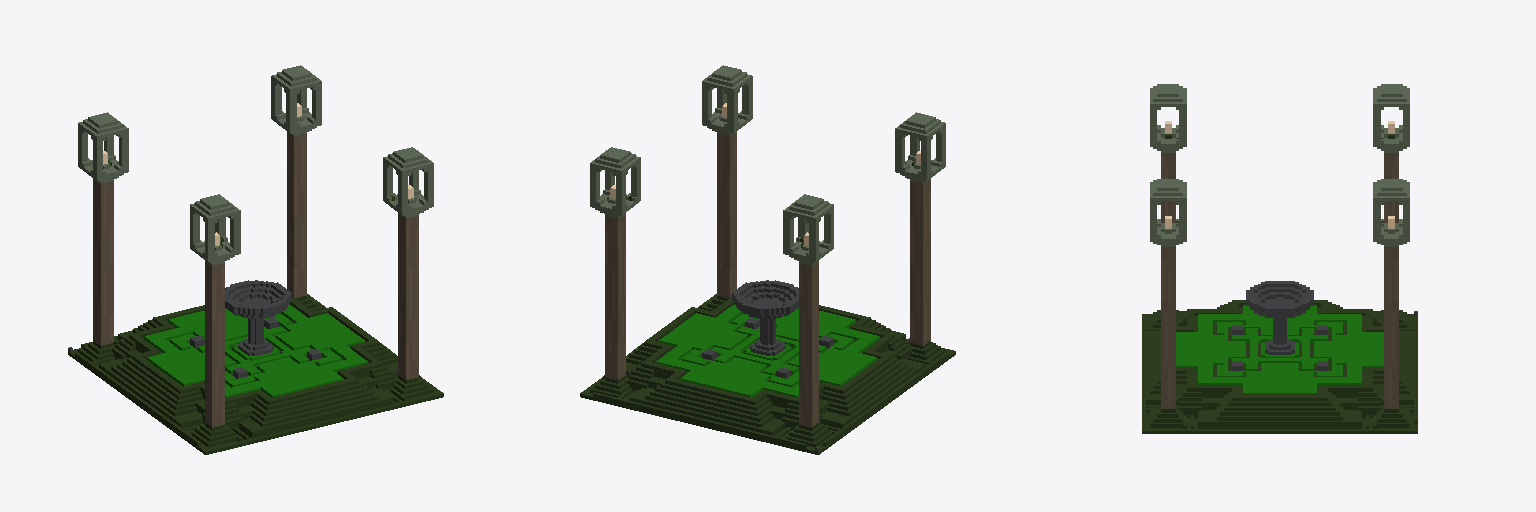
The picture shows the model from 3 angles: view 1: azimuth 30°, elevation 25°; view 2: azimuth 150°, elevation 25°; view 3: azimuth 270°, elevation 25°; orthographic projection.
Visible parts, largest first — view 1: object 1; view 2: object 1; view 3: object 1.
Part boxes in pixels (left/top/right/bottom): object 1: left=68, top=65, right=443, bottom=454; object 1: left=580, top=65, right=955, bottom=454; object 1: left=1142, top=84, right=1417, bottom=433.
Bounding box in the file's own units: 7.4 × 7.1 × 7.4.
1 materials, 1 textured.